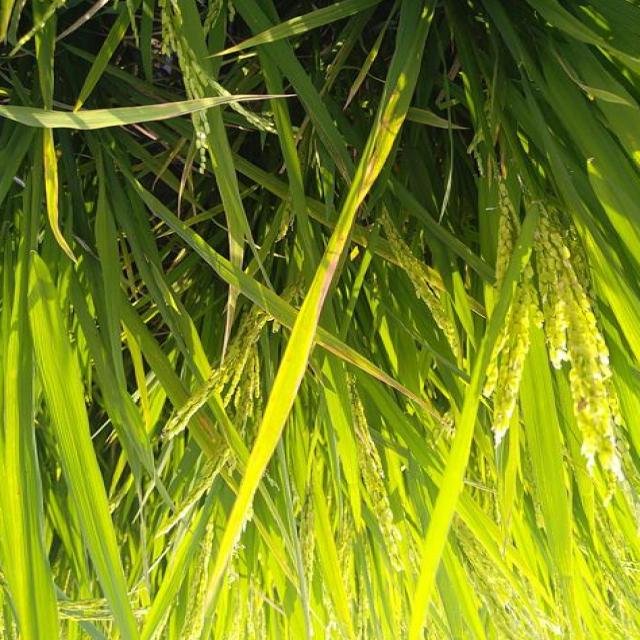Leaf Blight: (319, 85, 401, 319), (315, 327, 435, 413)
